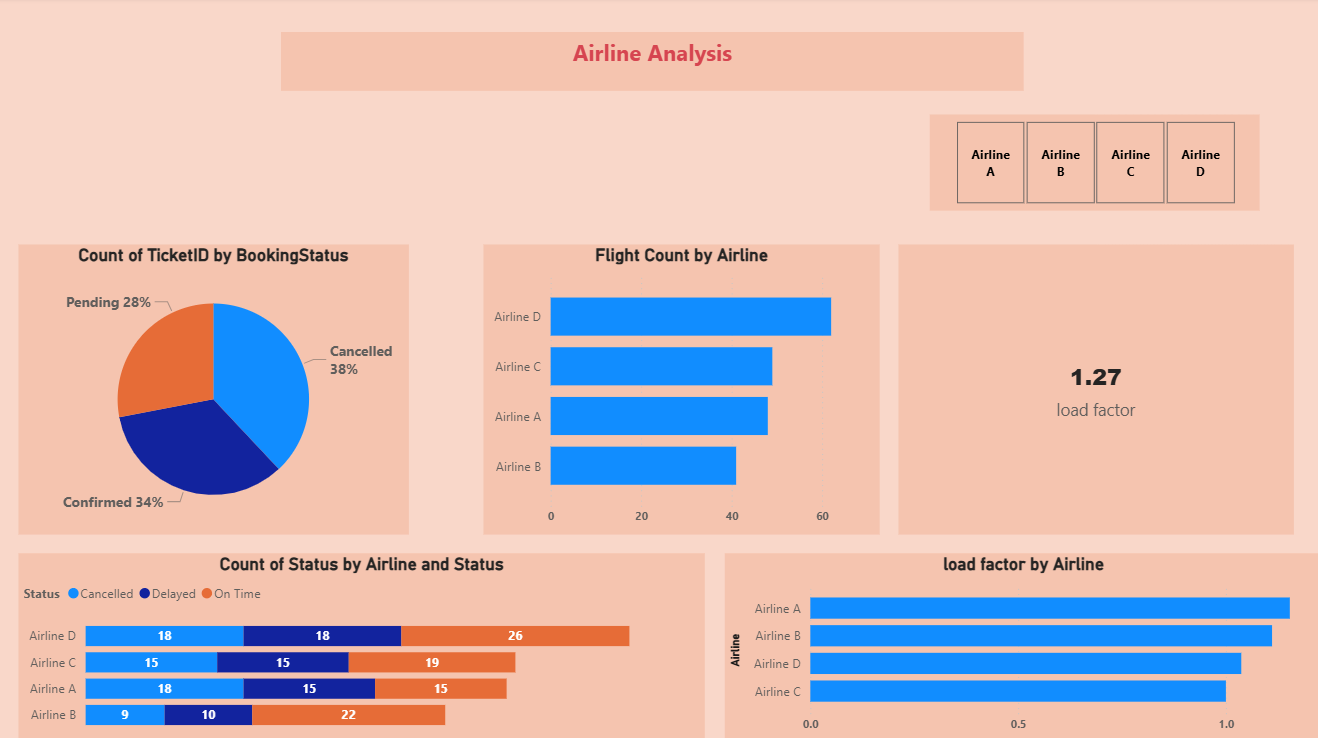

The dashboard page shown, as its layout file describes it:
{"tool":"powerbi","page":{"name":"Airline_Analysis","canvas":[1280,720],"ordinal":3},"visuals":[{"type":"barChart","fields":{"Y":["flight_information.Flight Count"],"Category":["flight_information.Airline"]},"box":[470.6,239,382.7,279.9],"z":0},{"type":"slicer","fields":{"Values":["flight_information.Airline"]},"box":[901.6,113.9,318.3,92.9],"z":1000},{"type":"card","fields":{"Values":["flight_information.load factor"]},"box":[870.6,239,381.4,279.9],"z":2000},{"type":"barChart","fields":{"Category":["flight_information.Airline"],"Y":["flight_information.load factor"]},"box":[703.4,537.5,577.1,182],"z":3000},{"type":"barChart","fields":{"Category":["flight_information.Airline"],"Series":["flight_information.Status"],"Y":["CountNonNull(flight_information.Status)"]},"box":[22.3,537.5,662.5,182],"z":4000},{"type":"pieChart","fields":{"Series":["ticket_information.BookingStatus"],"Y":["CountNonNull(ticket_information.TicketID)"]},"box":[22.3,239,376.5,279.9],"z":5000},{"type":"textbox","box":[274.9,33.4,717,57],"z":6000}]}

Visuals, with their boxes in screenshot pixels (x1, y1, x2, y2), scaled from the page's 1280x720 canvas onto the 1318x738 screenshot:
barChart - flight_information.Flight Count x flight_information.Airline: (485,245,879,532)
slicer - flight_information.Airline: (928,117,1256,212)
card - flight_information.load factor: (896,245,1289,532)
barChart - flight_information.Airline x flight_information.load factor: (724,551,1317,737)
barChart - flight_information.Airline x flight_information.Status: (23,551,705,737)
pieChart - ticket_information.BookingStatus x CountNonNull(ticket_information.TicketID): (23,245,411,532)
textbox: (283,34,1021,93)
